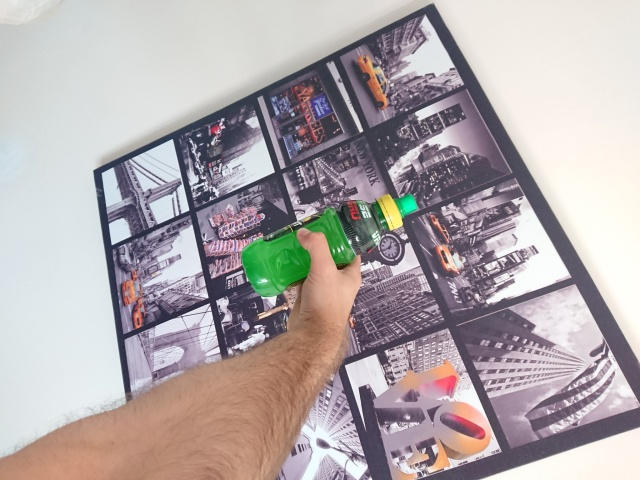Vindi Iso Sport Lemon-Grapefruit 500mL: (238, 191, 420, 300)
